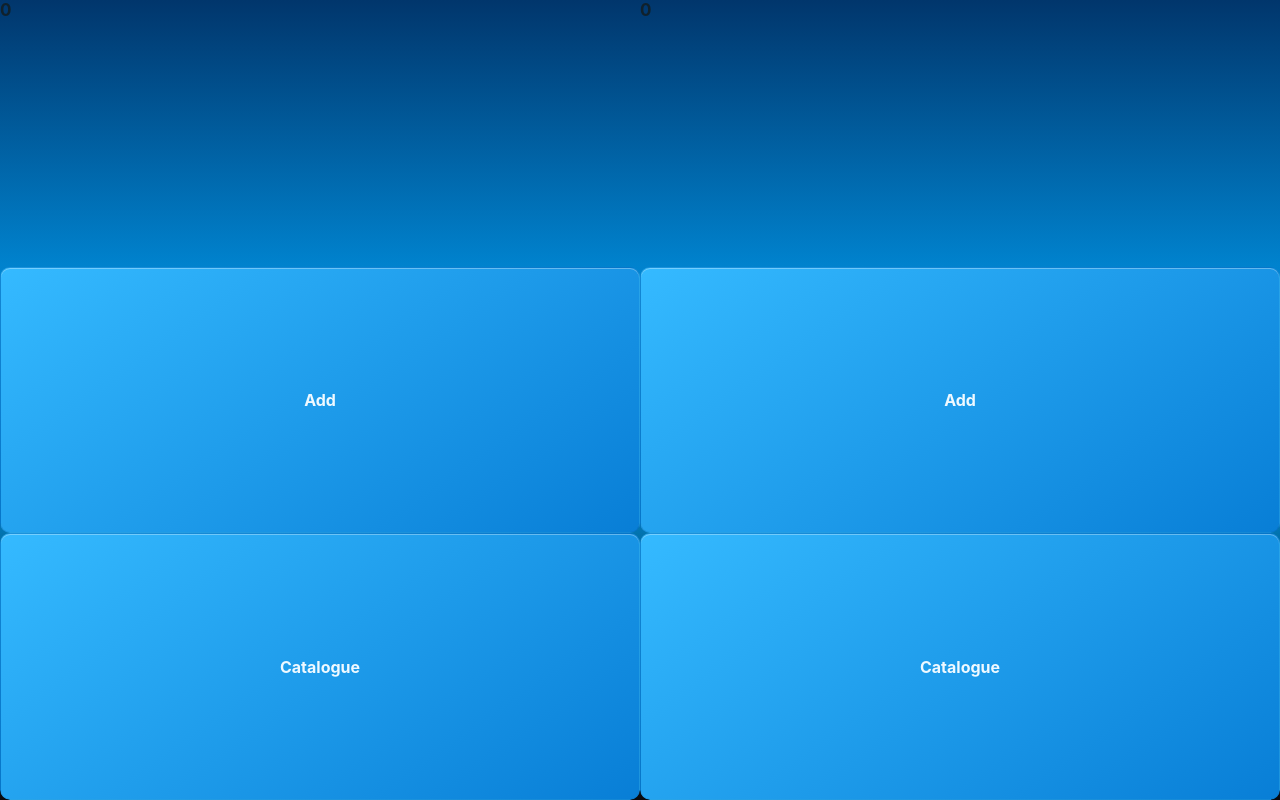
Test: links pages by address, shared frames, tags and reusable actions with isolated state
Step 1. Click the 1st button "Add" → x=320, y=400, box [0,267,640,533]
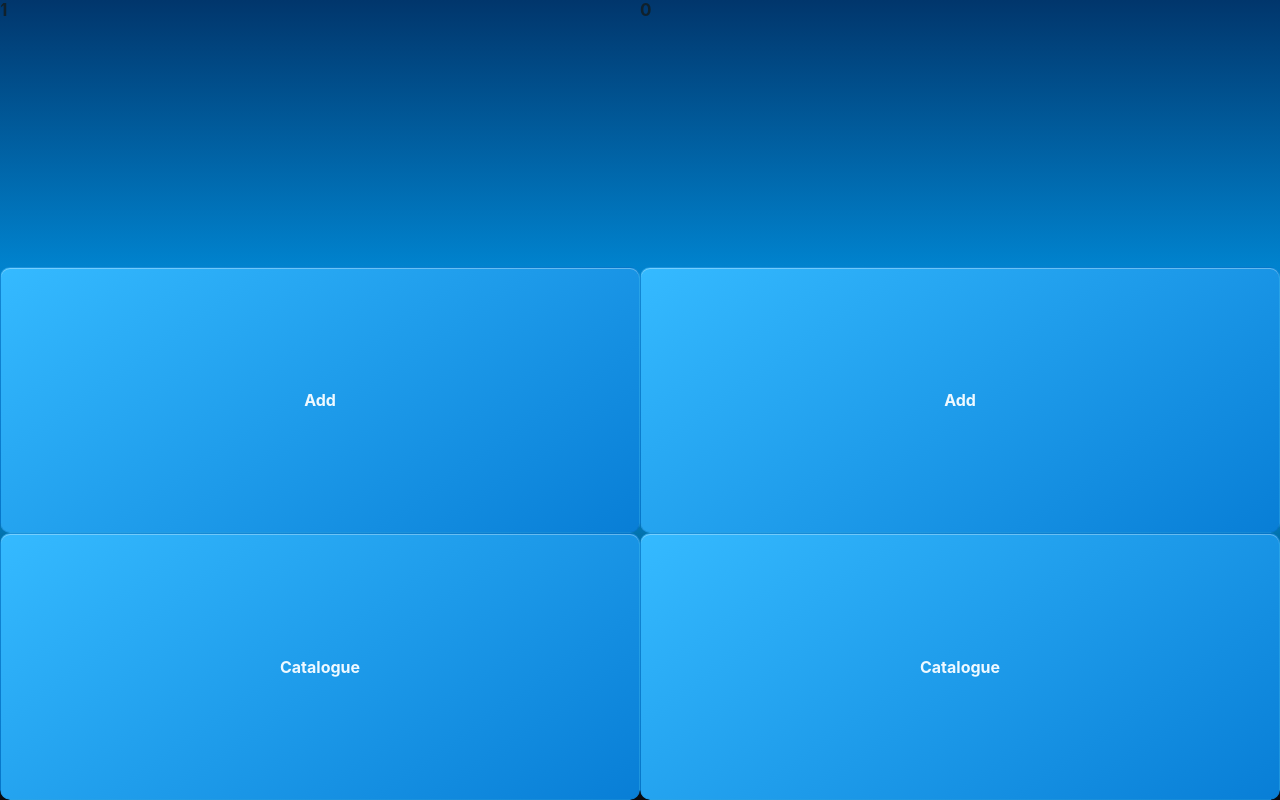
Expected: the text "0" is shown, [640,0,651,20]
Now the text "1" is shown, box [0,0,7,20]
Step 2. Click the 1st button "Catalogue" → x=320, y=667, box [0,533,640,799]
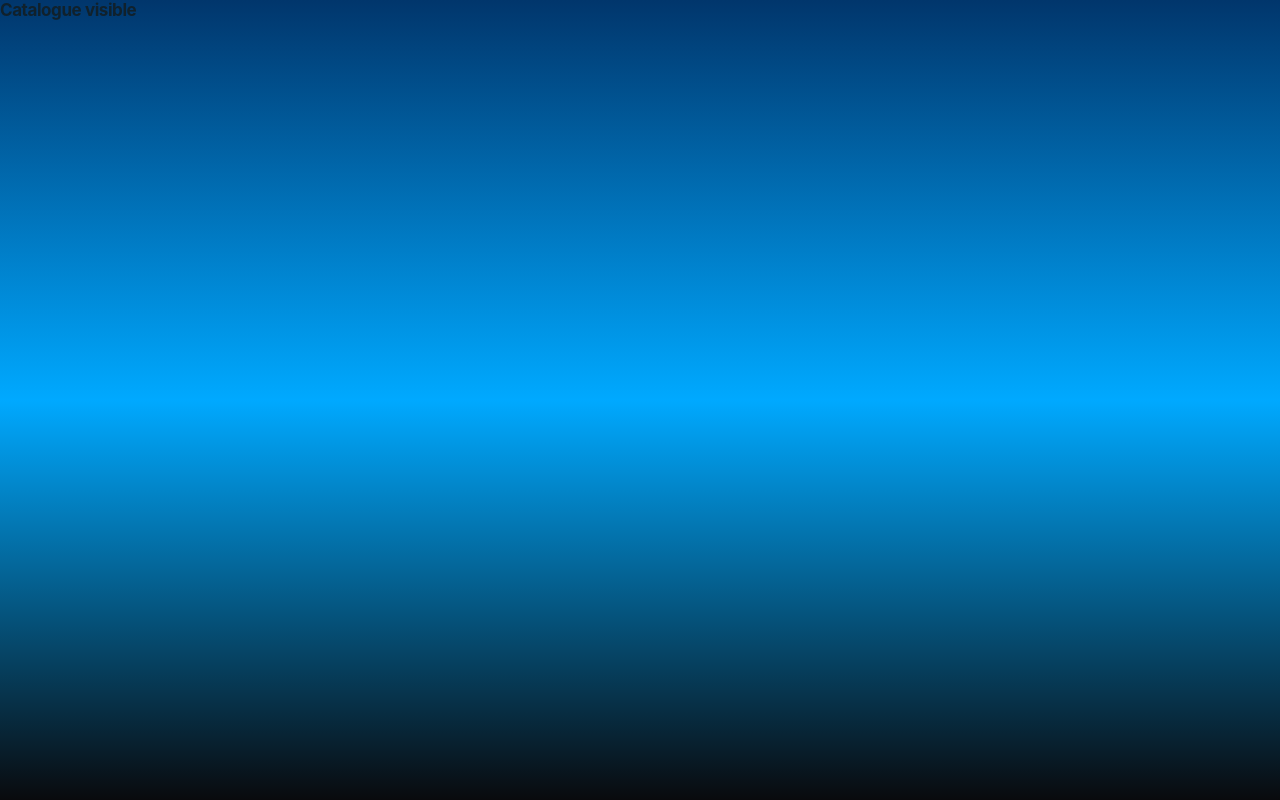
Now the text "Catalogue visible" is shown, box [0,0,136,20]
